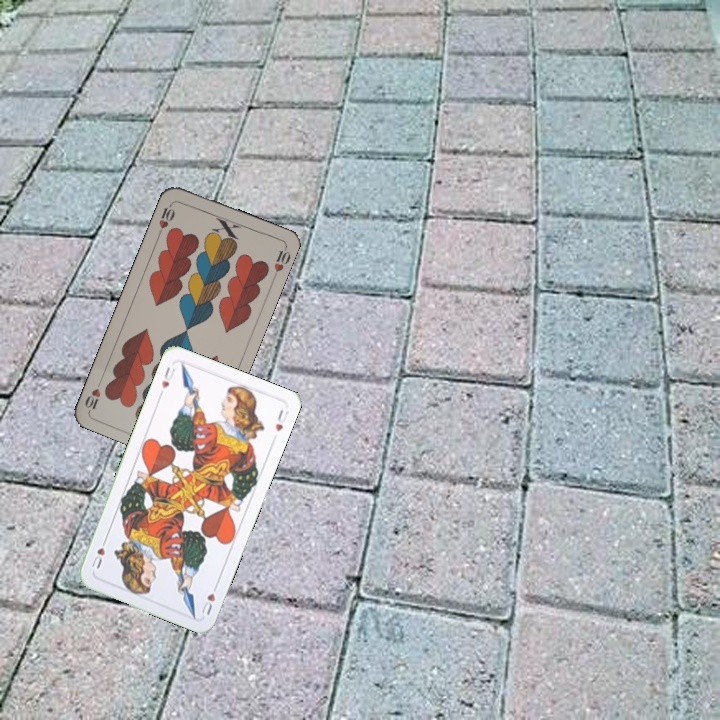H10: (154, 198, 177, 237)
HU: (197, 579, 221, 618), (155, 363, 178, 399)
